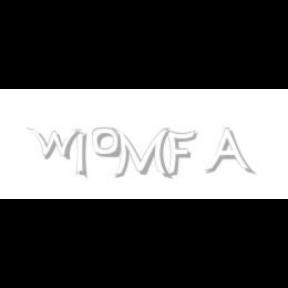A: (204, 128, 252, 176)
F: (165, 128, 197, 178)
I: (76, 128, 88, 180)
M: (112, 128, 170, 180)
o: (92, 128, 120, 158)
w: (26, 128, 86, 160)
